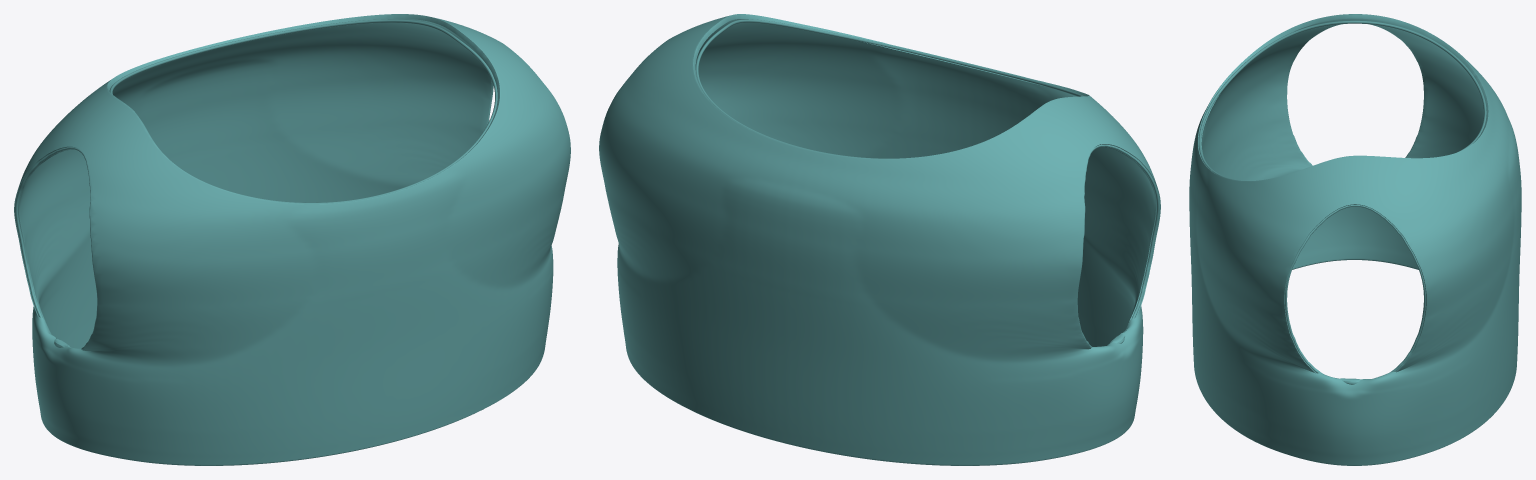
Rendered from Masculine-tank-top.glb.
3 views of the same model, side by side, from view 1: azimuth 30°, elevation 25°; view 2: azimuth 150°, elevation 25°; view 3: azimuth 270°, elevation 25° (orthographic). The views are drawn at different scales.
Visible parts, largest first — view 1: Clothing / tank, Neckline / fitted crew export, Tank / smooth armhole188 2 export; view 2: Clothing / tank, Neckline / fitted crew export, Tank / smooth armhole188 2 export; view 3: Clothing / tank, Neckline / fitted crew export, Tank / smooth armhole188 1 export.
Boxes of the visible parts, left/top/right/bottom form: Clothing / tank: left=14, top=14, right=570, bottom=465; Neckline / fitted crew export: left=109, top=19, right=497, bottom=204; Tank / smooth armhole188 2 export: left=15, top=147, right=97, bottom=349; Clothing / tank: left=599, top=14, right=1160, bottom=465; Neckline / fitted crew export: left=695, top=19, right=1083, bottom=158; Tank / smooth armhole188 2 export: left=1077, top=144, right=1159, bottom=347; Clothing / tank: left=1189, top=14, right=1521, bottom=465; Neckline / fitted crew export: left=1198, top=20, right=1486, bottom=180; Tank / smooth armhole188 1 export: left=1285, top=205, right=1425, bottom=373.
Size of the model in its own units: 0.6826 by 0.4157 by 0.4502.
